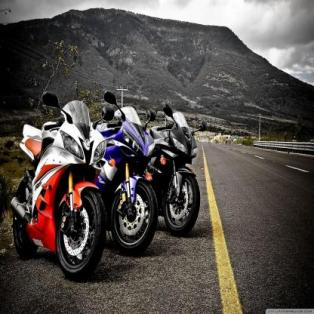Motocicleta: (10, 86, 109, 278), (97, 80, 159, 260), (156, 95, 206, 237)
